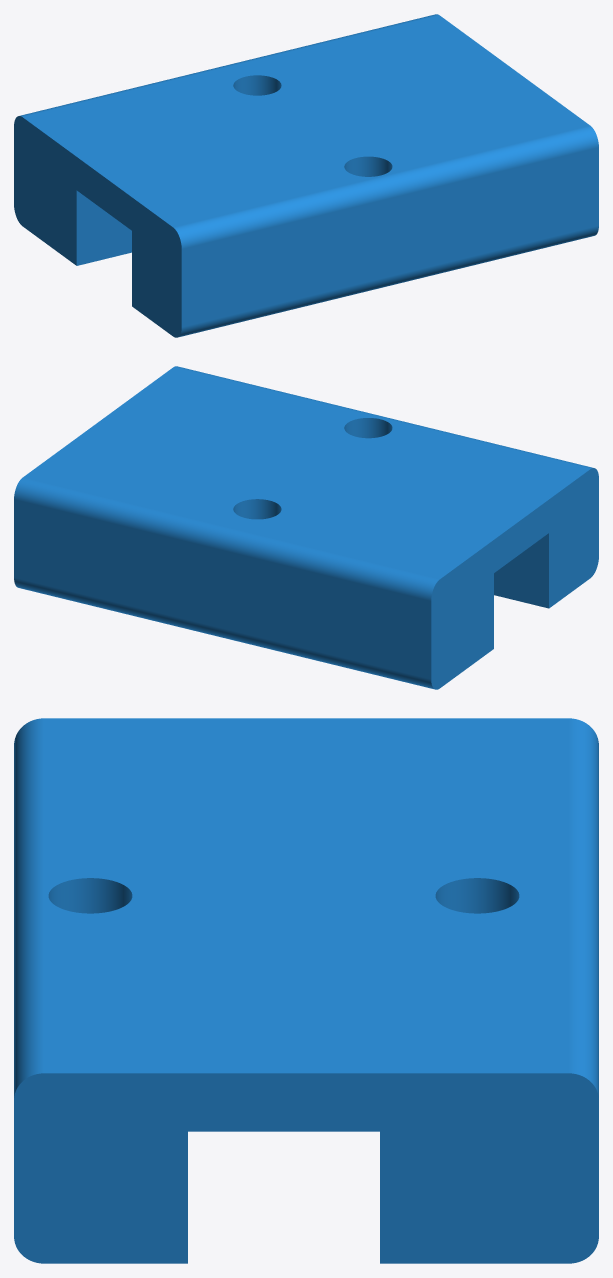
Rendered from eixo_garra.glb.
3 views of the same model, one above another, from view 1: azimuth 30°, elevation 25°; view 2: azimuth 150°, elevation 25°; view 3: azimuth 270°, elevation 25° (orthographic). The views are drawn at different scales.
Parts seen in each view (by area): view 1: eixo_garra; view 2: eixo_garra; view 3: eixo_garra.
Boxes of the visible parts, <box> form: eixo_garra: <box>14,14,598,337</box>; eixo_garra: <box>14,366,598,689</box>; eixo_garra: <box>14,718,598,1263</box>.
Size of the model in its own units: 28 by 7 by 19.5.
